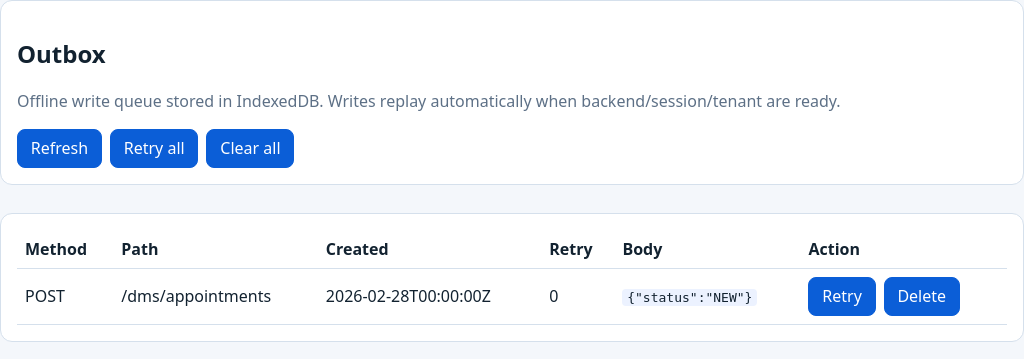
Test: OutboxPage › removes item after successful retry
Expected: the text "/dms/appointments" is shown, x1=113 y1=268 x2=318 y2=324
Click the button "Retry": (842, 296) x1=808 y1=277 x2=876 y2=316
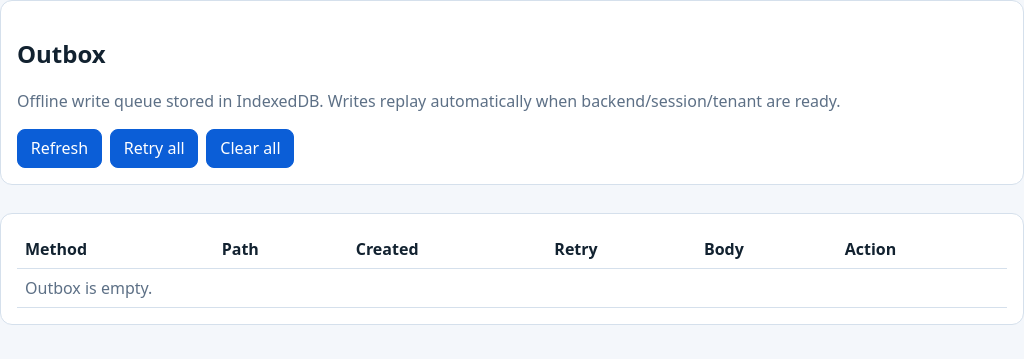
Now the text "/dms/appointments" is gone
